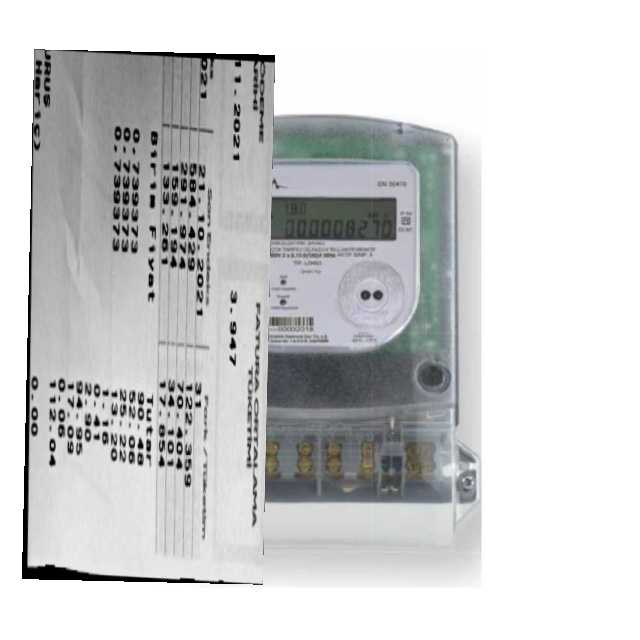electricity-bill: (21, 48, 275, 584)
